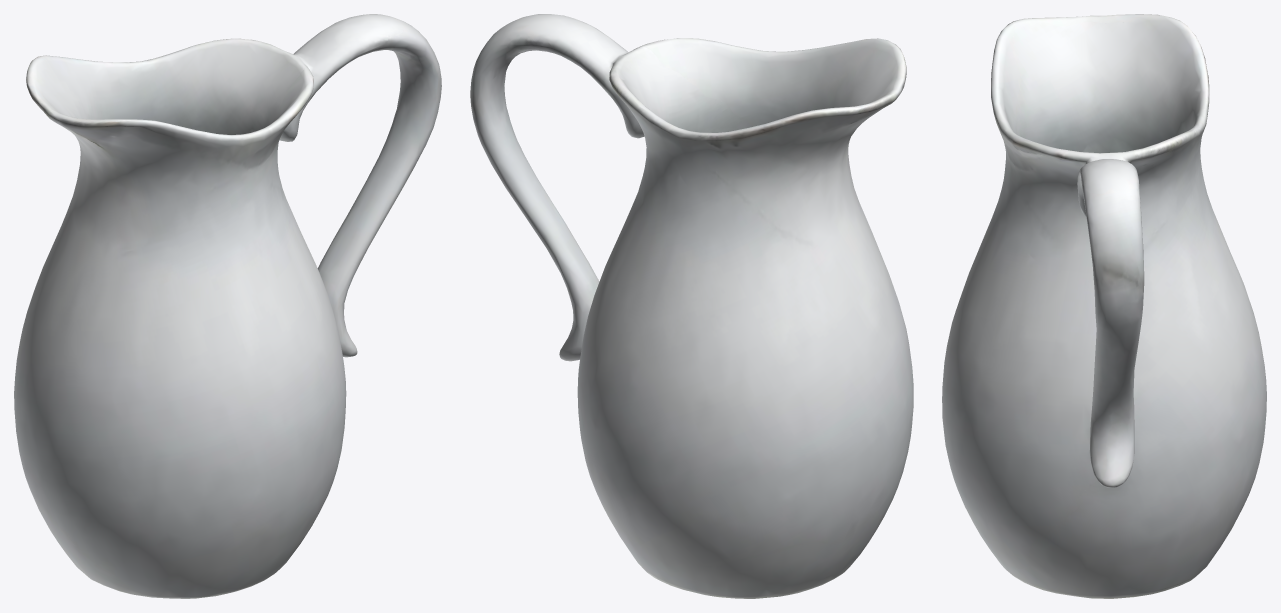
File: gso-pitcher-vase.glb
The picture shows the model from 3 angles, left to right: view 1: azimuth 30°, elevation 25°; view 2: azimuth 150°, elevation 25°; view 3: azimuth 270°, elevation 25°; orthographic projection. The views are drawn at different scales.
Parts seen in each view (by area): view 1: Threshold_Porcelain_Pitcher_White; view 2: Threshold_Porcelain_Pitcher_White; view 3: Threshold_Porcelain_Pitcher_White.
Boxes of the visible parts, x1,y1,x2,y2 form: Threshold_Porcelain_Pitcher_White: (14, 14, 441, 598); Threshold_Porcelain_Pitcher_White: (470, 14, 913, 598); Threshold_Porcelain_Pitcher_White: (942, 14, 1266, 598).
Bounding box in the file's own units: 0.2389 × 0.2784 × 0.1688.
Materials: 1 (1 with a texture image).
